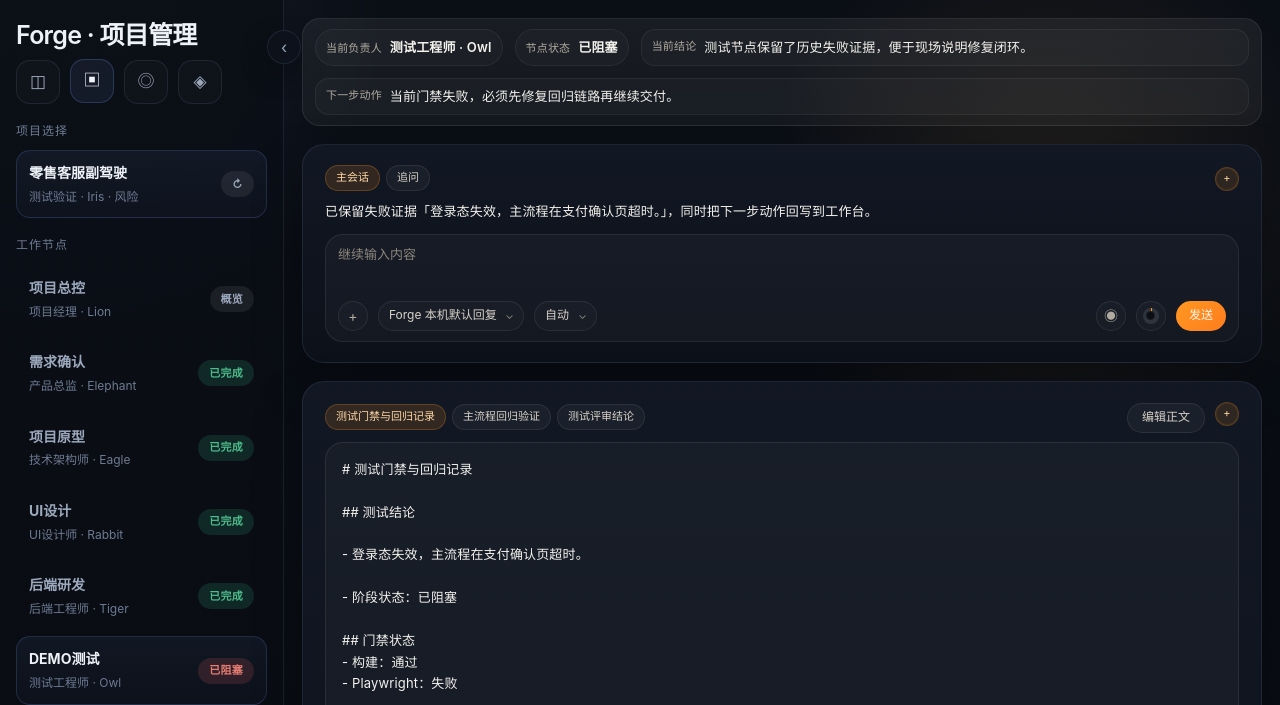
Scenario: Forge projects page › shows the project manager workbench when selecting 项目总控 under 工作节点
Step 1. Click the button "项目总控 项目经理 · Lion 概览" → (142, 299), box [16,265,267,333]
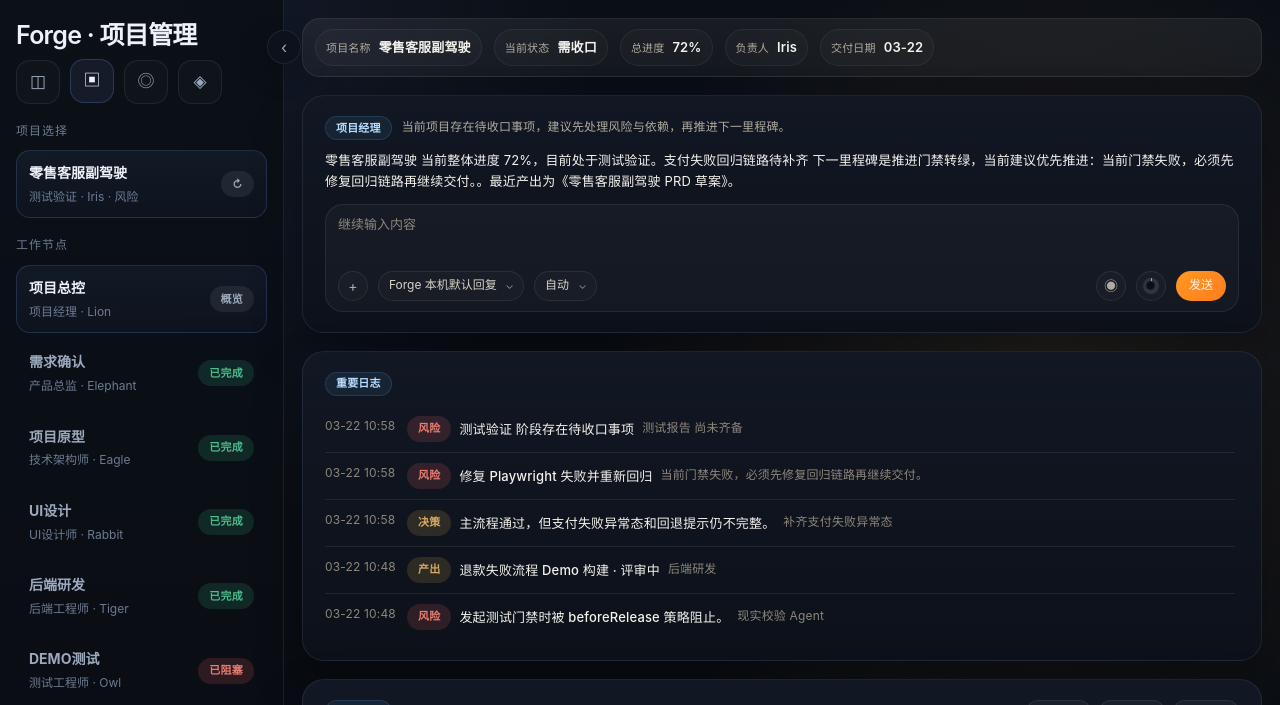
expect the element named "AI 对话" is shown: met, box [302,95,1262,333]
expect the element "重要日志" is shown: met, box [302,351,1262,661]
expect the text "项目经理" is shown: met, box [325,116,392,140]
